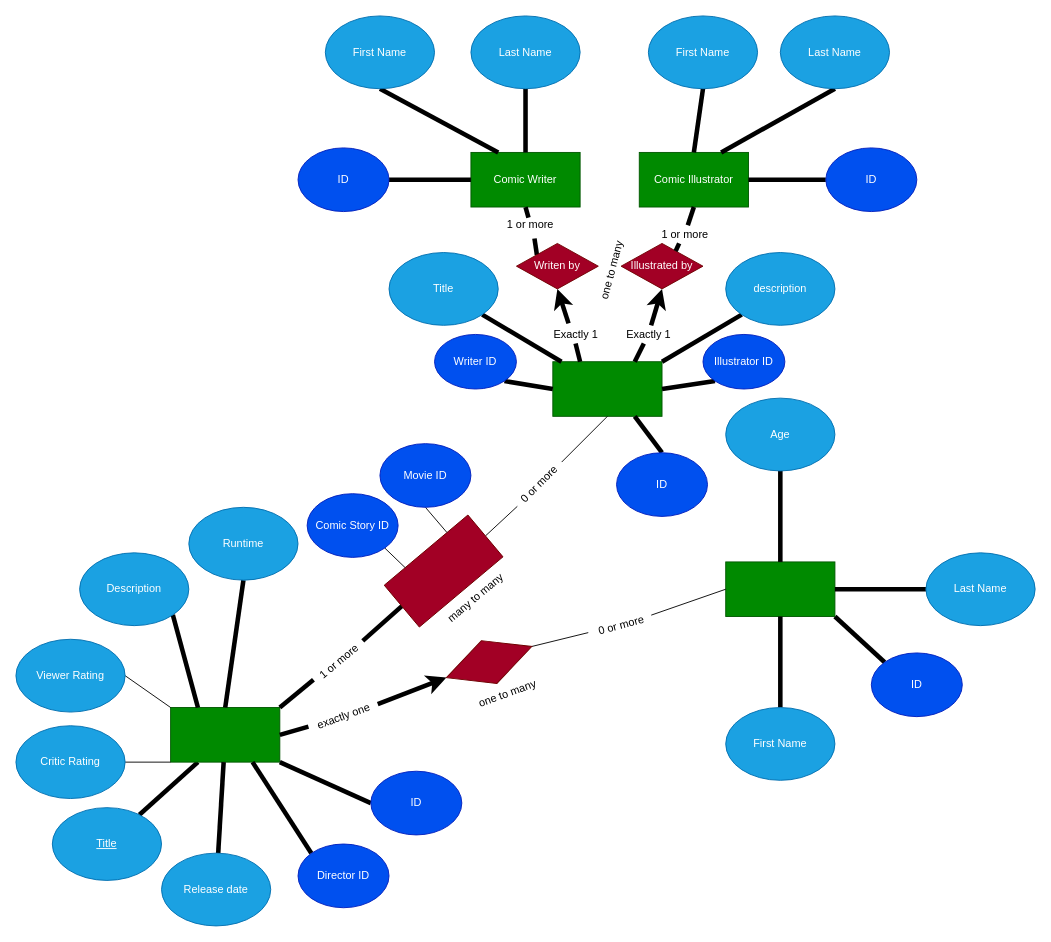
Some shapes in this 1051 by 942 pixel diagram are drawn without their labels. Each missing label, with the box of its shape:
comic inspirations: (383, 514, 503, 627)
Comic Story: (552, 361, 662, 416)
Directed by: (438, 624, 540, 699)
Director: (725, 561, 835, 617)
Movie: (170, 707, 280, 762)
